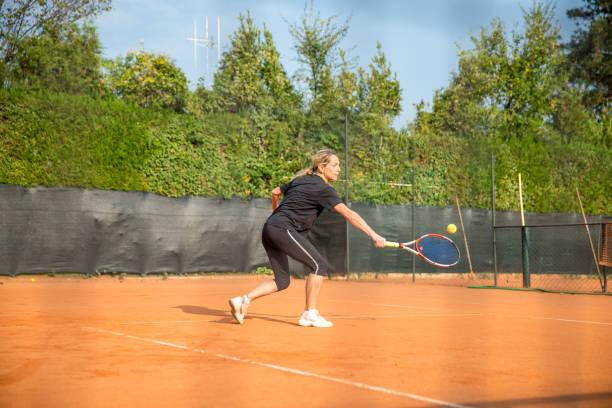ball_tennis: (446, 222, 458, 237)
